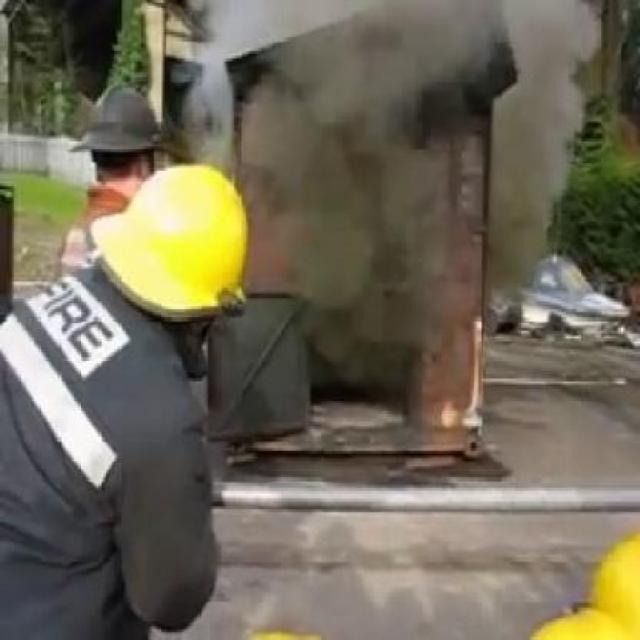smoke: (258, 35, 460, 388)
